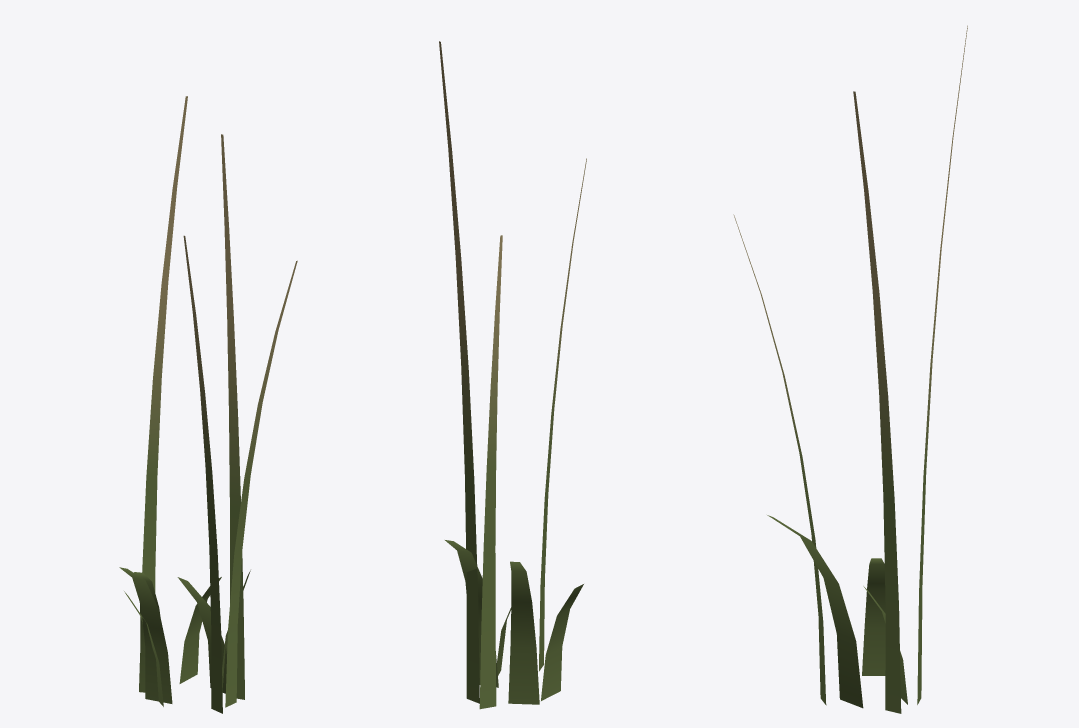
The model's file is Veg_SeaOats.glb.
3 renders of one model, left to right at view 1: azimuth 30°, elevation 25°; view 2: azimuth 150°, elevation 25°; view 3: azimuth 270°, elevation 25°, orthographic. The views are drawn at different scales.
Parts seen in each view (by area): view 1: Veg_SeaOats; view 2: Veg_SeaOats; view 3: Veg_SeaOats.
Boxes of the visible parts, box(x1,y1,x2,y2) form: Veg_SeaOats: box(119, 96, 297, 713); Veg_SeaOats: box(439, 41, 586, 709); Veg_SeaOats: box(733, 25, 967, 713).
Bounding box in the file's own units: 0.7206 × 1.66 × 0.7551.
